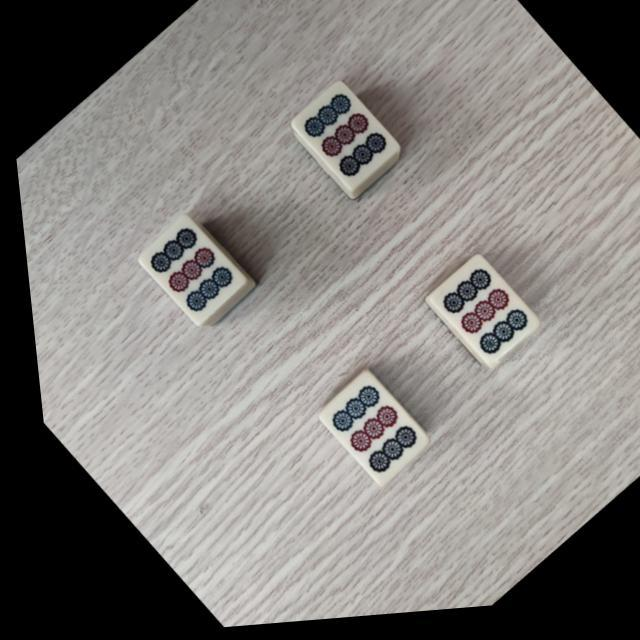sd9: (420, 260, 530, 373), (307, 376, 417, 488), (131, 217, 236, 324), (287, 86, 392, 192)
